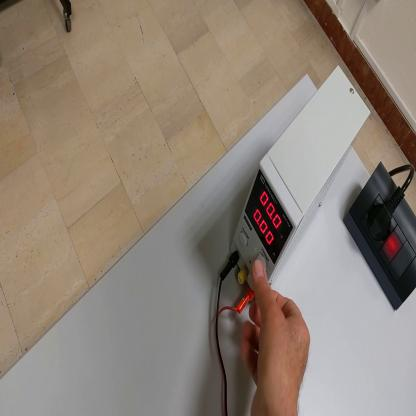hand: (245, 259, 310, 415)
power supply: (229, 65, 372, 289)
socket: (343, 161, 416, 313)
